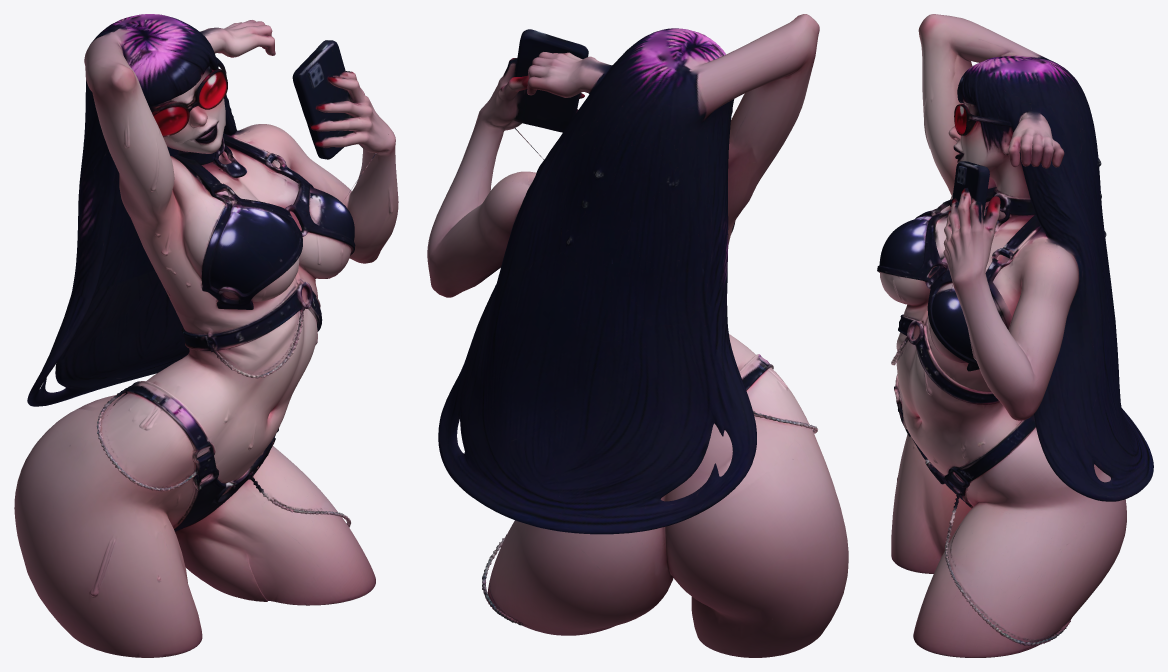
The model's file is 01a1a793-ccfe-7f3c-aee9-2e5d6740213b.glb.
3 renders of one model, left to right at view 1: azimuth 30°, elevation 25°; view 2: azimuth 150°, elevation 25°; view 3: azimuth 270°, elevation 25°, orthographic. The views are drawn at different scales.
Parts seen in each view (by area): view 1: node_0; view 2: node_0; view 3: node_0.
Part boxes in pixels (x1,y1,x2,y2): node_0: (14, 14, 398, 657); node_0: (427, 14, 848, 657); node_0: (877, 14, 1153, 657).
Size of the model in its own units: 0.6861 by 1.03 by 0.4905.
1 material, 1 textured.
